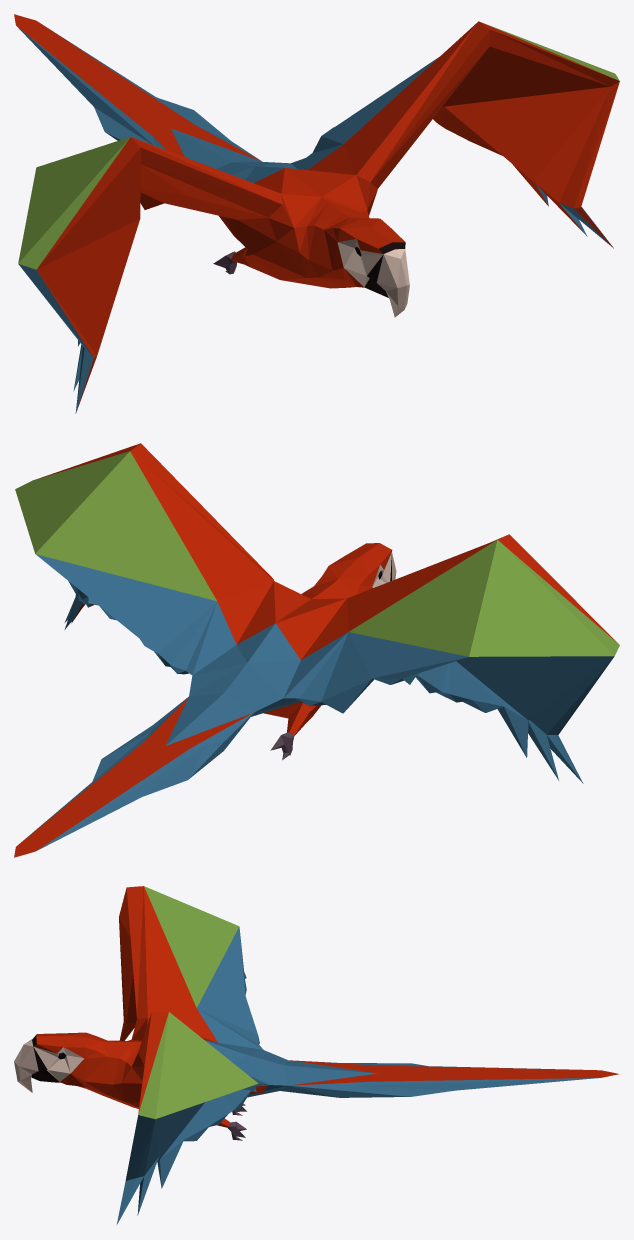
The model's file is Parrot_v4_big_head.glb.
The picture shows the model from 3 angles, top to bottom: view 1: azimuth 30°, elevation 25°; view 2: azimuth 150°, elevation 25°; view 3: azimuth 270°, elevation 25°; orthographic projection. The views are drawn at different scales.
Size of the model in its own units: 89.92 by 37.07 by 100.
